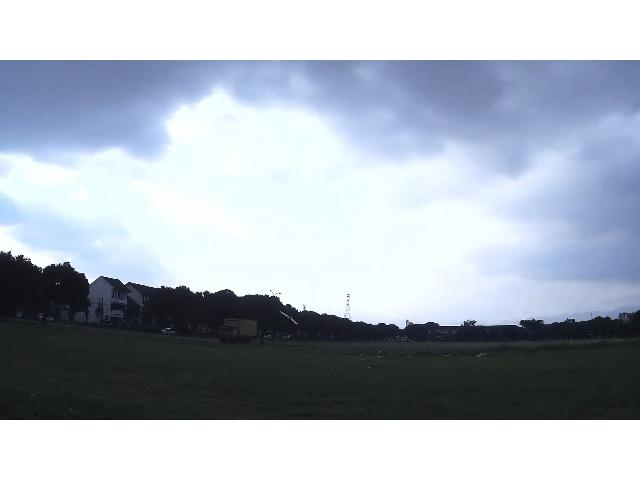Anti-Drone: (280, 311, 298, 325)
